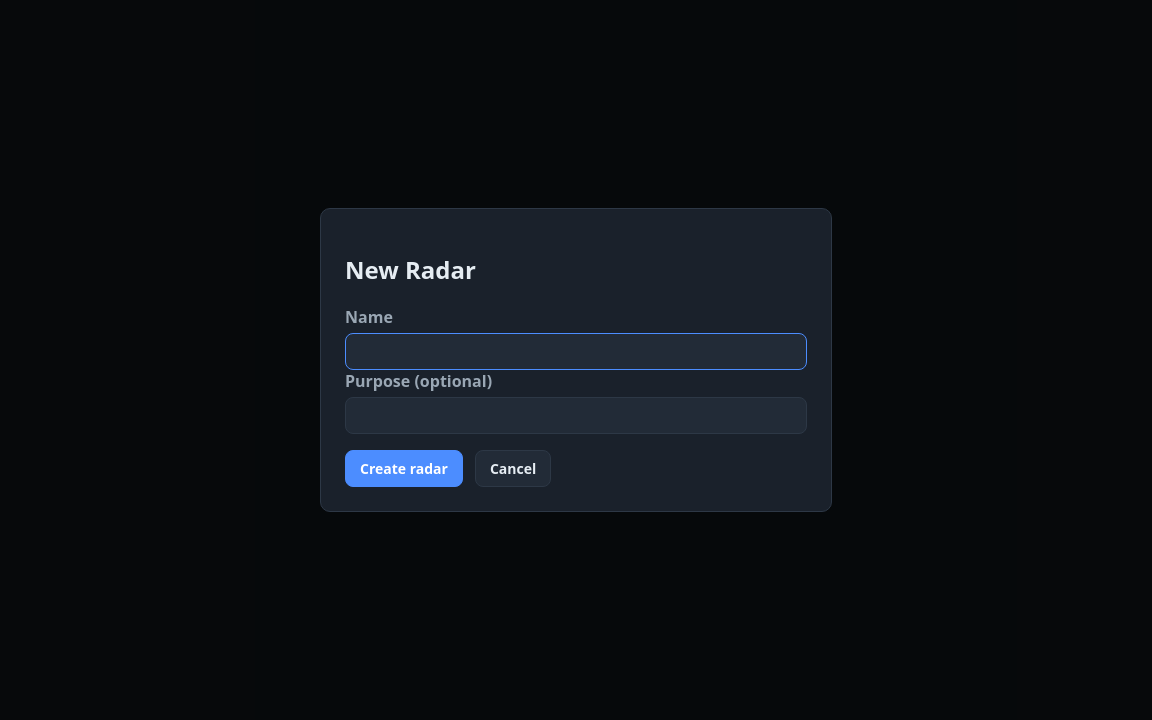
NewRadarForm › preserves entered values and shows a retryable error on server failure
Type "Mobile Radar" into the field labelled "Name" at (576, 351), box [345, 333, 807, 370]
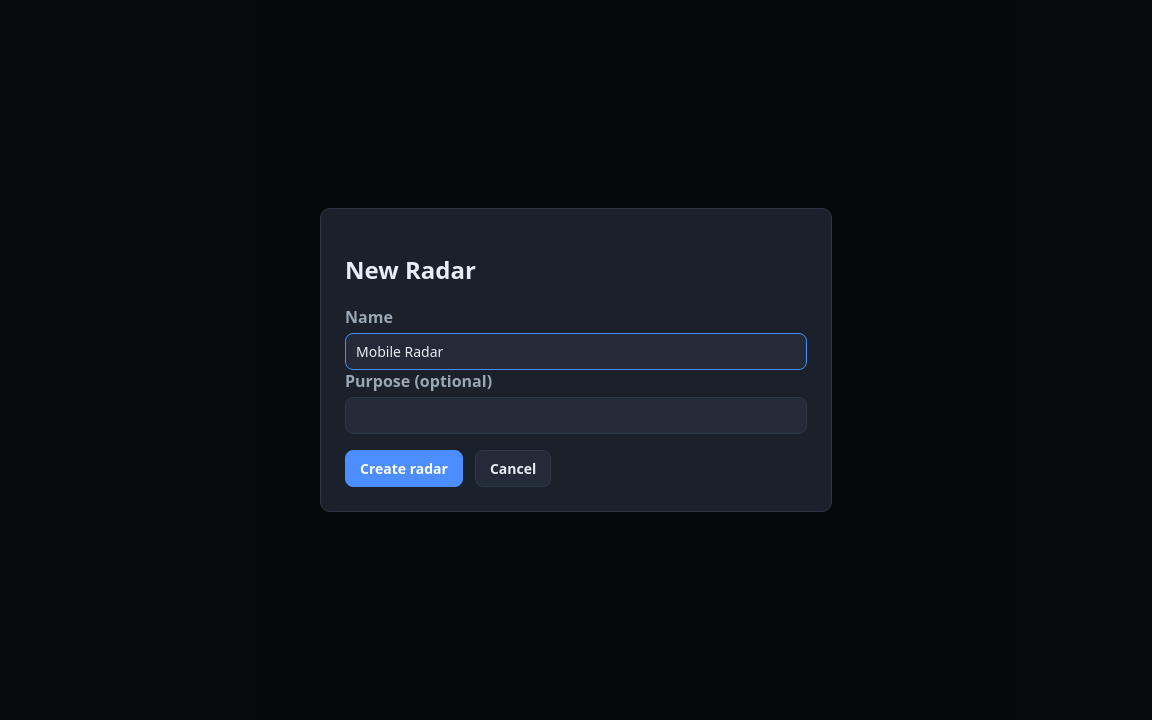
Type "Mobile stances" into the field labelled "Purpose (optional)" at (576, 415), box [345, 397, 807, 434]
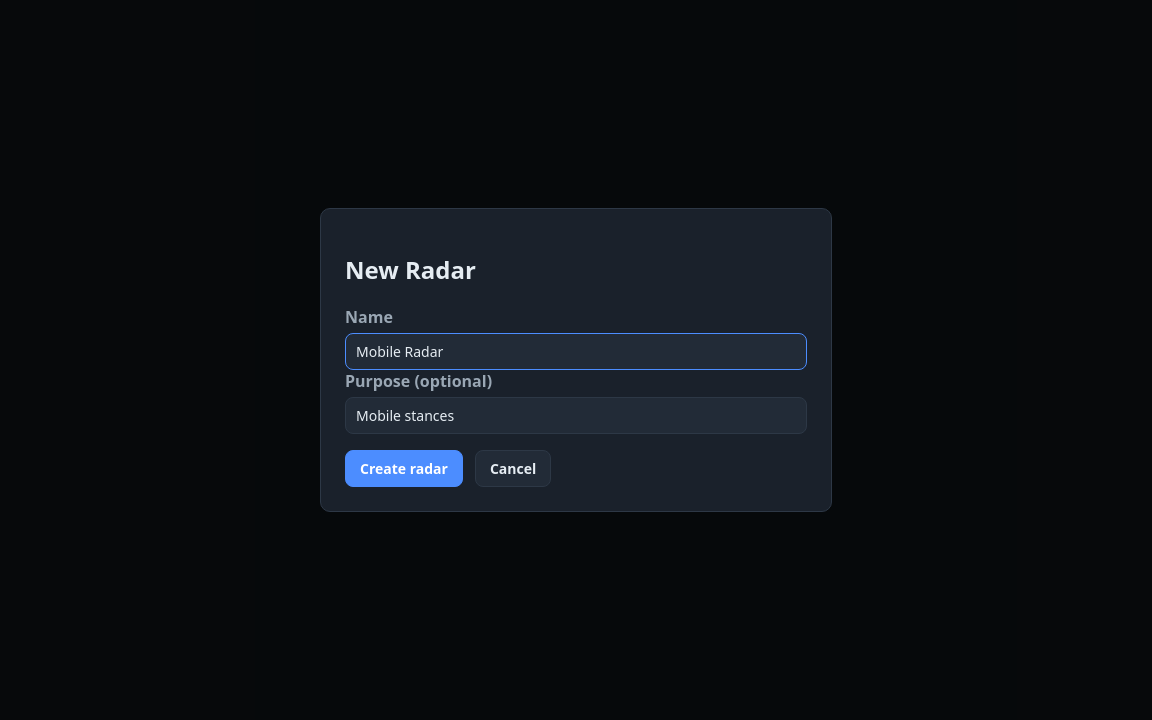
Click the button "Create radar" at (404, 468), box [345, 450, 463, 487]
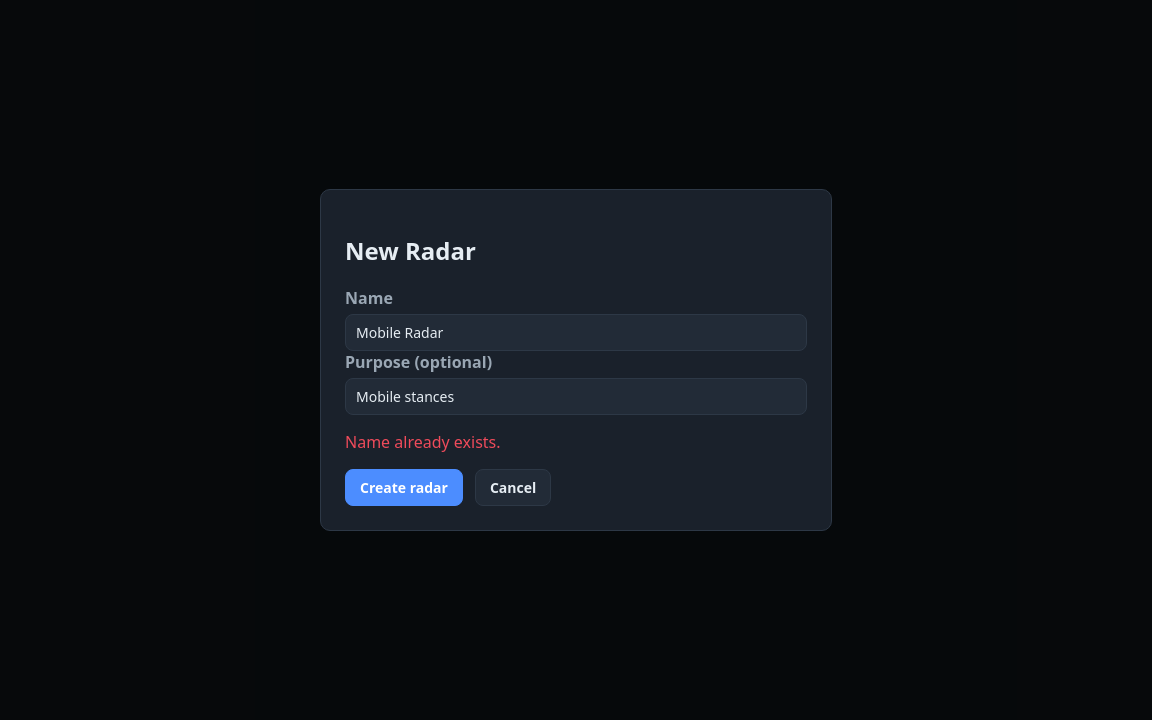
Expected: the button "Create radar" is enabled, [345, 469, 463, 506]
Expected: the message reads "Name already exists.", [345, 431, 500, 453]
